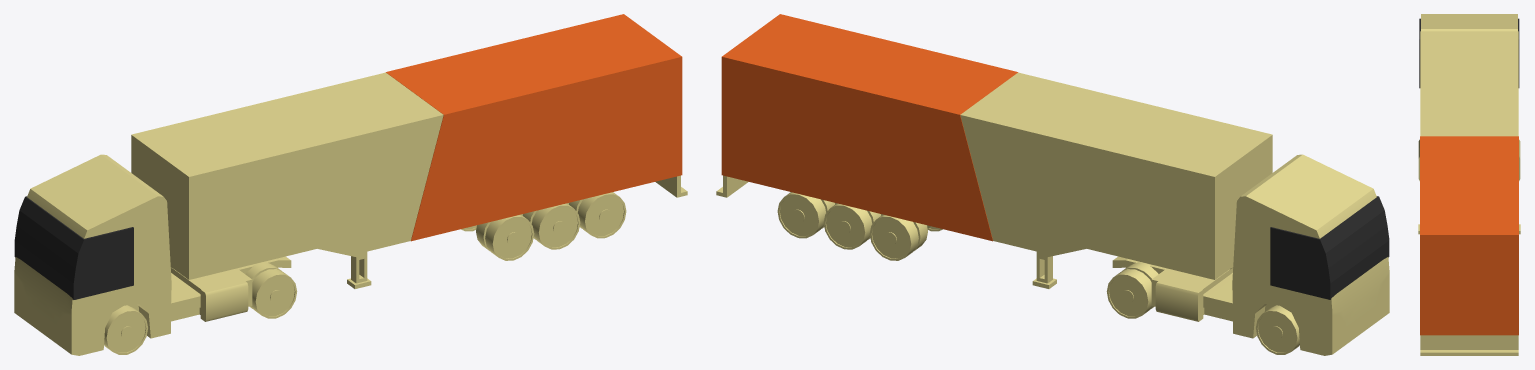
File: PoieszVrachtwagen.glb
3 views of the same model, side by side, from view 1: azimuth 30°, elevation 25°; view 2: azimuth 150°, elevation 25°; view 3: azimuth 270°, elevation 25° (orthographic). The views are drawn at different scales.
Visible parts, largest first — view 1: Cube.002, Cube, Cube.001, Cube.003; view 2: Cube.002, Cube, Cube.001, Cube.003; view 3: Cube, Cube.002, Cube.001, Cube.003.
Boxes of the visible parts, box(x1,y1,x2,y2) form: Cube.002: box(131, 72, 687, 288); Cube: box(386, 14, 682, 241); Cube.001: box(14, 154, 297, 355); Cube.003: box(14, 196, 133, 299); Cube.002: box(716, 72, 1272, 288); Cube: box(721, 14, 1017, 241); Cube.001: box(1106, 154, 1389, 355); Cube.003: box(1270, 196, 1389, 299); Cube: box(1420, 136, 1518, 335); Cube.002: box(1418, 31, 1520, 355); Cube.001: box(1418, 14, 1520, 180); Cube.003: box(1419, 18, 1519, 88).
Size of the model in its own units: 0.6278 by 0.1592 by 0.1068.
